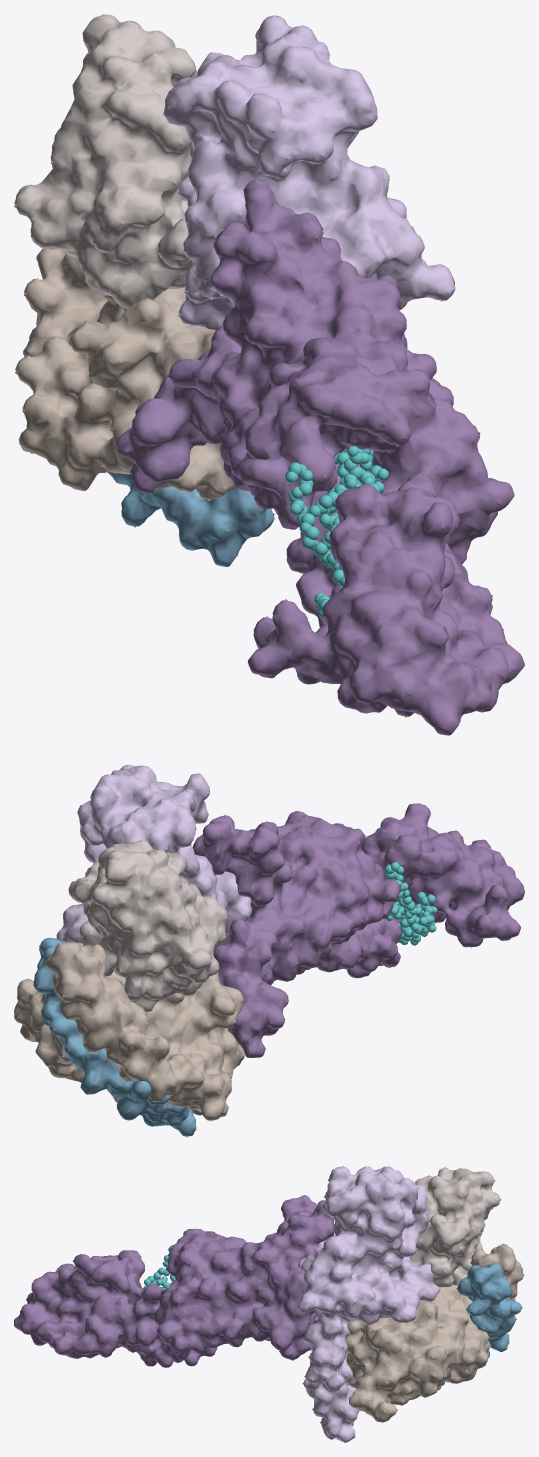
File: glp1-receptor-complex.glb
3 renders of one model, top to bottom at view 1: azimuth 30°, elevation 25°; view 2: azimuth 150°, elevation 25°; view 3: azimuth 270°, elevation 25°, orthographic. The views are drawn at different scales.
Parts seen in each view (by area): view 1: glp1-receptor-complex; view 2: glp1-receptor-complex; view 3: glp1-receptor-complex.
Part boxes in pixels (<box>): glp1-receptor-complex: <box>14,14,524,735</box>; glp1-receptor-complex: <box>14,764,524,1137</box>; glp1-receptor-complex: <box>14,1166,524,1442</box>.
Size of the model in its own units: 1.36 by 1.47 by 2.6.
